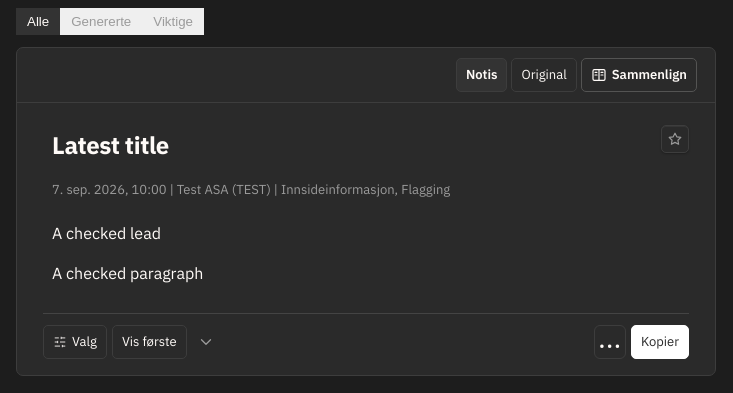
Test: switches between the earliest available published version and the latest
Step 1. Click the button "Vis første" → x=149, y=342, box top-left (112, 325), bottom-right (187, 359)
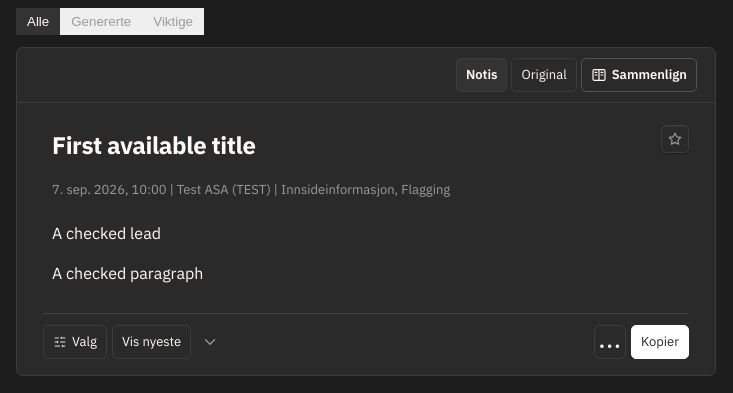
Expected: the heading with class "editableTitle" reads "First available title", top-left (52, 129), bottom-right (256, 161)
Step 2. Click the button "Vis nyeste" → x=152, y=342, box top-left (112, 325), bottom-right (191, 359)
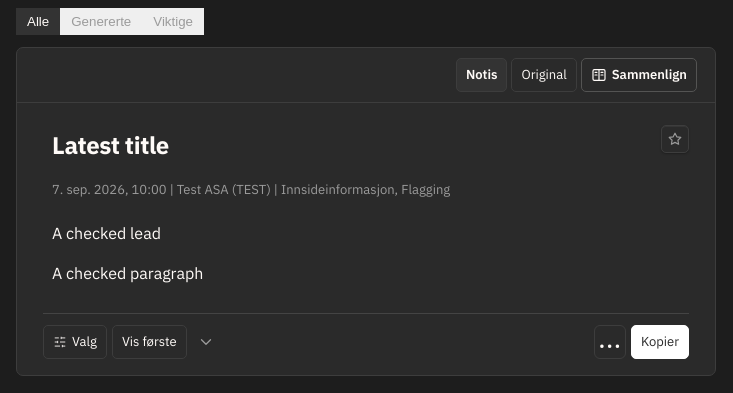
Expected: the heading with class "editableTitle" reads "Latest title", top-left (52, 129), bottom-right (169, 161)
